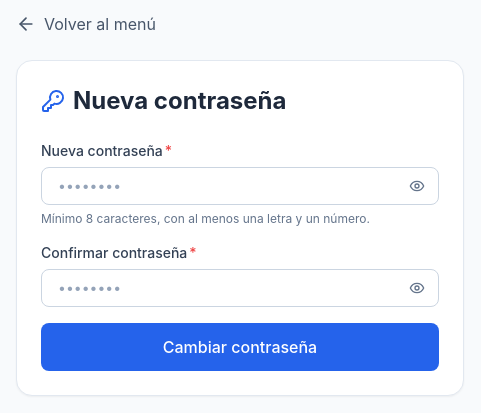
Test: ResetPassword › cambia la contraseña con el token
The image size is (481, 413).
In the password field labelled "Nueva contraseña*": (240, 186) [41, 167, 439, 205], type "NuevaPass123"
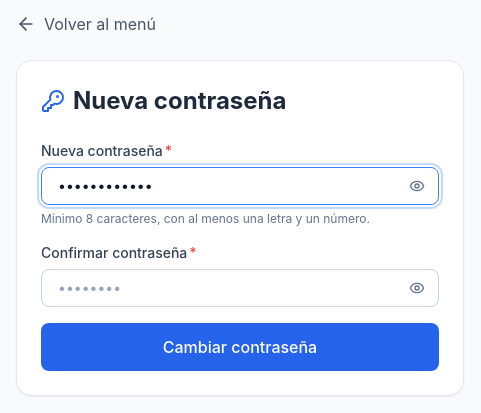
In the password field labelled "Confirmar contraseña*": (240, 288) [41, 269, 439, 307], type "NuevaPass123"
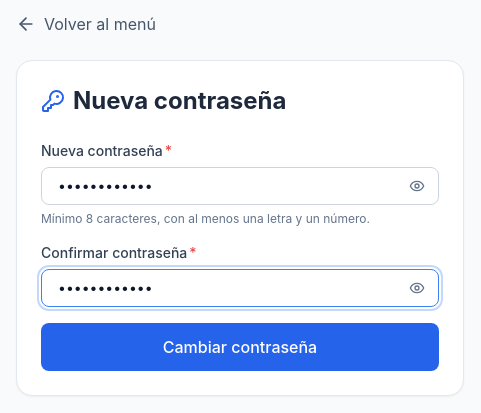
Click the button "Cambiar contraseña": (240, 347) [41, 323, 439, 371]
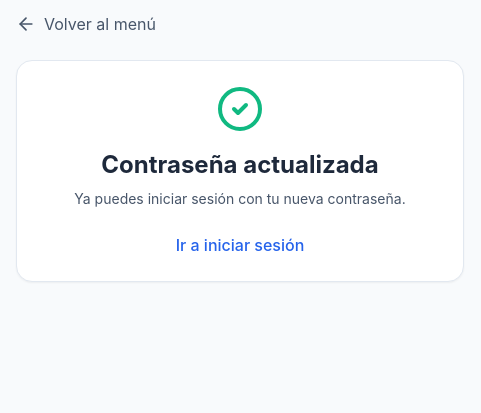
Now the heading "Contraseña actualizada" is shown, box [101, 150, 379, 179]
